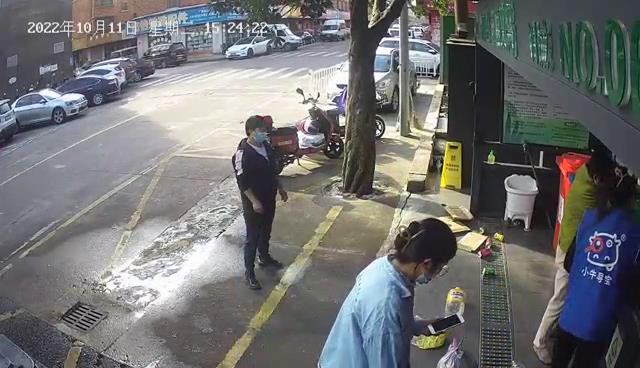garbage-bag: (437, 337, 478, 368)
lvzhipin: (478, 247, 493, 258), (482, 266, 497, 276), (493, 231, 505, 241)
person: (533, 154, 616, 368), (232, 114, 290, 292)
suliaozhipin: (444, 285, 467, 317)
worker: (316, 216, 464, 368), (551, 166, 640, 367)
zhizhipin: (457, 231, 488, 254), (441, 201, 474, 221), (441, 215, 470, 233)
